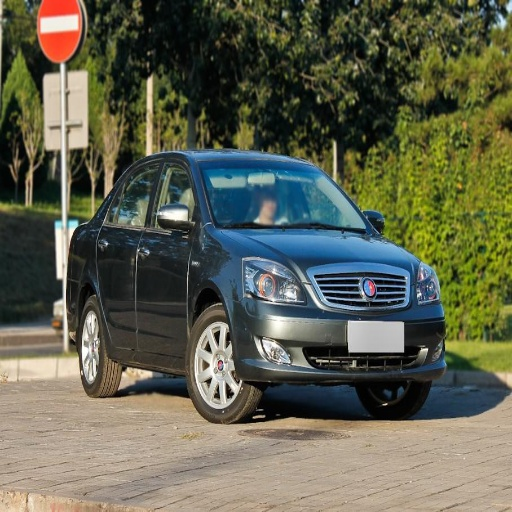front_bumper: (231, 271, 446, 380)
front_right_door: (137, 156, 198, 356)
front_right_light: (243, 257, 303, 304)
